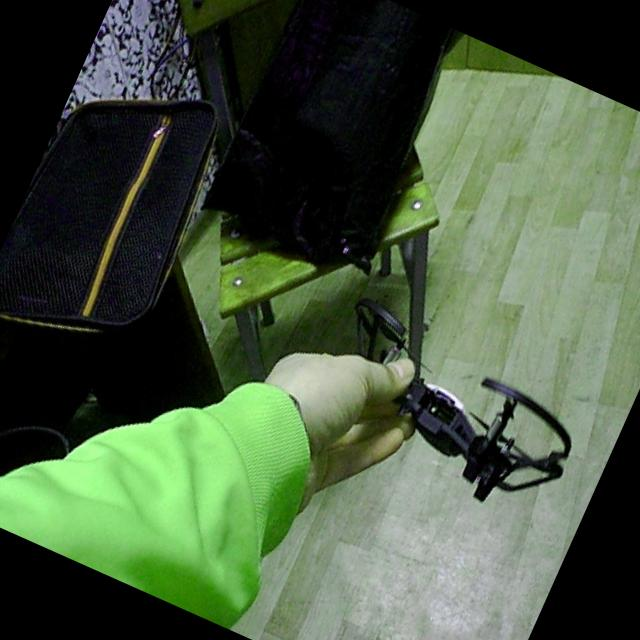drone: (288, 271, 616, 548)
